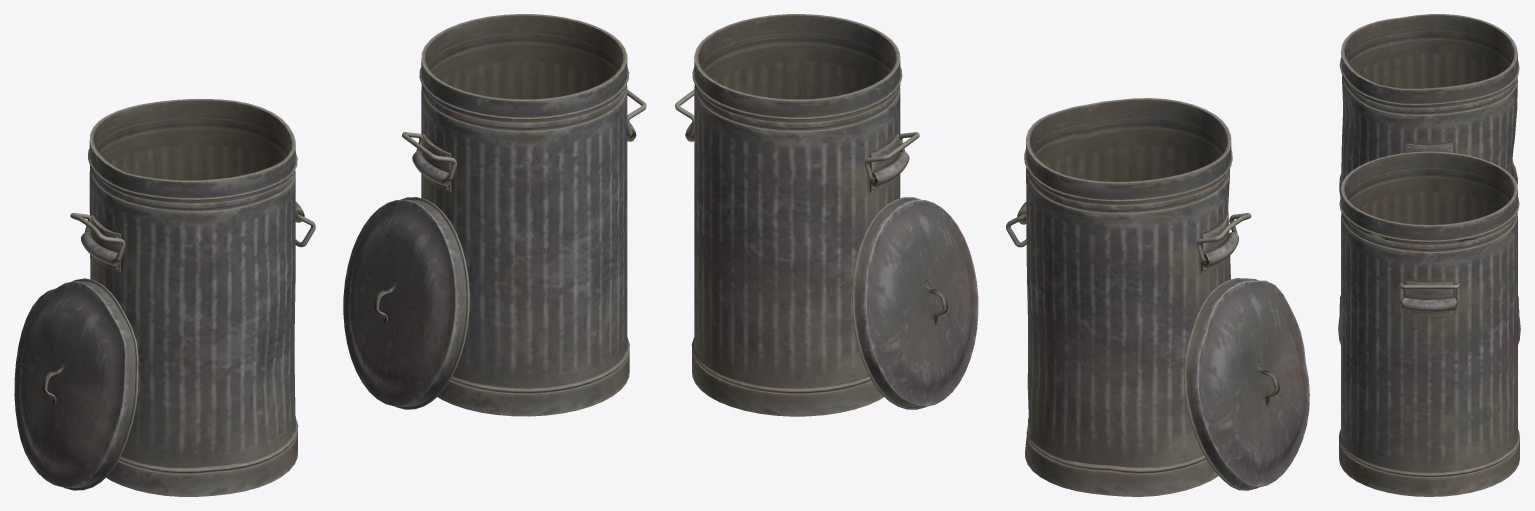
File: trash_can.glb
3 renders of one model, left to right at view 1: azimuth 30°, elevation 25°; view 2: azimuth 150°, elevation 25°; view 3: azimuth 270°, elevation 25°, orthographic. The views are drawn at different scales.
Visible parts, largest first — view 1: metal_trash_can_handle_left_metal_trash_can_0; view 2: metal_trash_can_handle_left_metal_trash_can_0; view 3: metal_trash_can_handle_left_metal_trash_can_0.
Part boxes in pixels (x1=…): metal_trash_can_handle_left_metal_trash_can_0: x1=14, y1=14, x2=646, y2=496; metal_trash_can_handle_left_metal_trash_can_0: x1=675, y1=14, x2=1309, y2=496; metal_trash_can_handle_left_metal_trash_can_0: x1=1338, y1=14, x2=1520, y2=496.
Size of the model in its own units: 1.78 by 0.9063 by 0.5563.
Materials: 1 (1 with a texture image).
